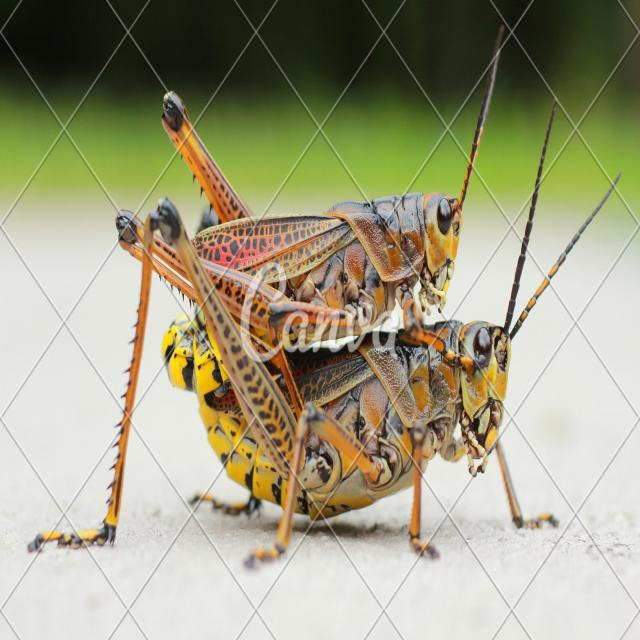ZhaMeng: (100, 306, 552, 551), (101, 170, 489, 340)
